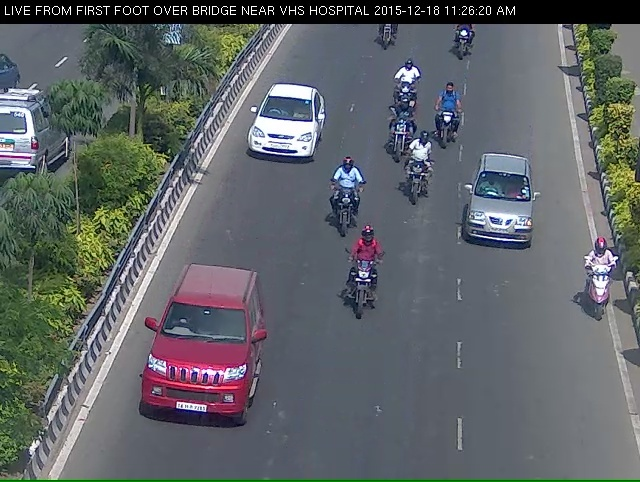Car: (120, 287, 262, 470), (458, 154, 544, 265), (239, 91, 318, 178)
Person: (580, 236, 626, 328), (344, 250, 383, 352), (319, 176, 363, 252), (409, 149, 439, 220), (430, 93, 464, 151), (382, 108, 414, 167), (387, 69, 417, 118), (449, 26, 480, 70), (370, 19, 399, 62)
